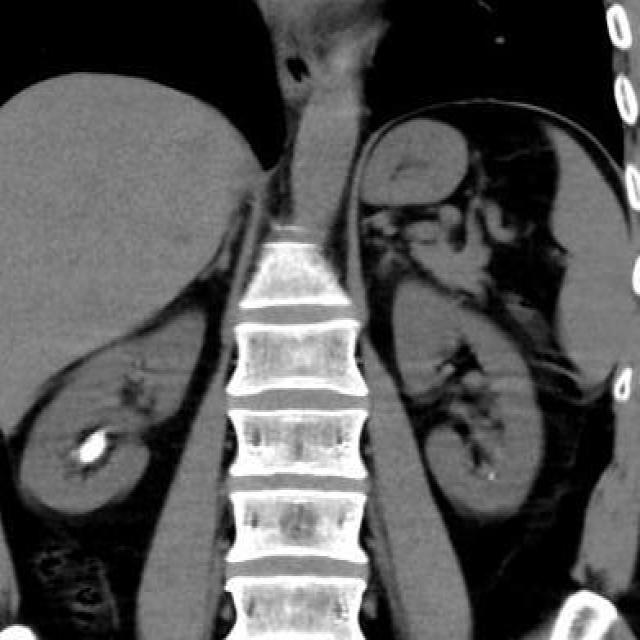Tas_Var: (73, 424, 112, 470), (488, 469, 499, 483)
